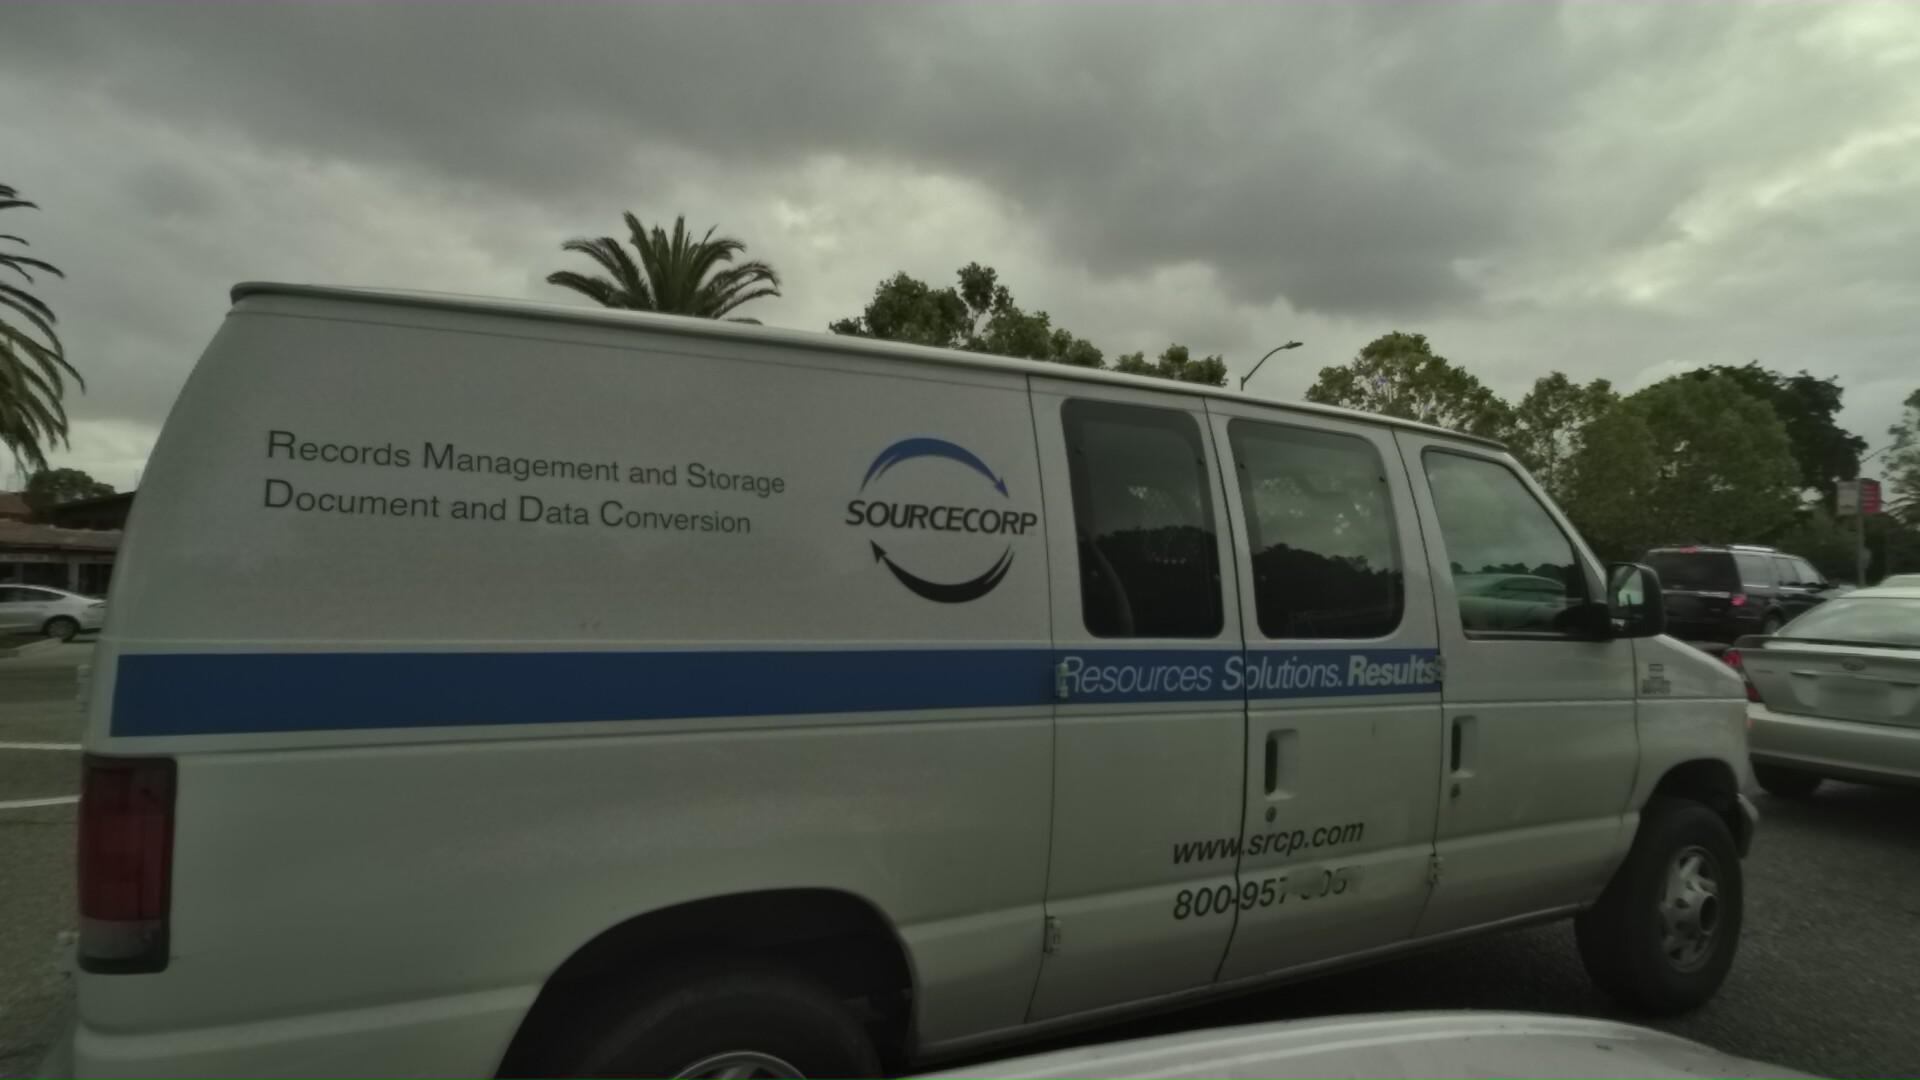car: (0, 44, 1832, 1080), (90, 541, 783, 795), (895, 564, 1476, 815), (1683, 562, 1920, 890), (1361, 553, 1664, 670), (1611, 538, 1884, 665), (1122, 560, 1382, 663), (142, 566, 314, 651), (1543, 574, 1706, 641), (0, 578, 117, 647), (1837, 556, 1920, 640)
